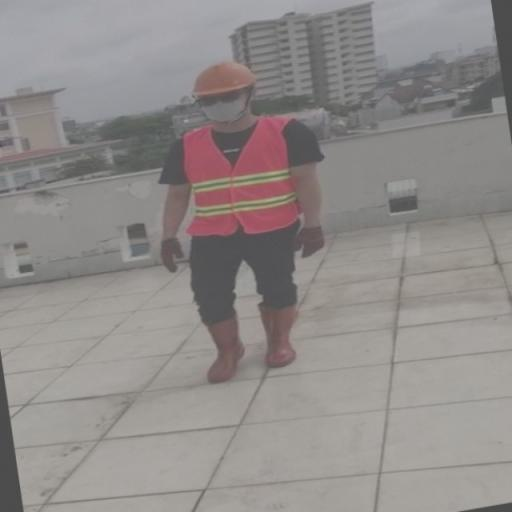Person: (151, 49, 352, 394)
boots: (196, 312, 249, 385), (256, 302, 302, 374)
gloves: (298, 227, 328, 260), (156, 240, 186, 273)
goggles: (188, 92, 250, 106)
helmet: (186, 56, 254, 96)
vest: (181, 116, 303, 254)
